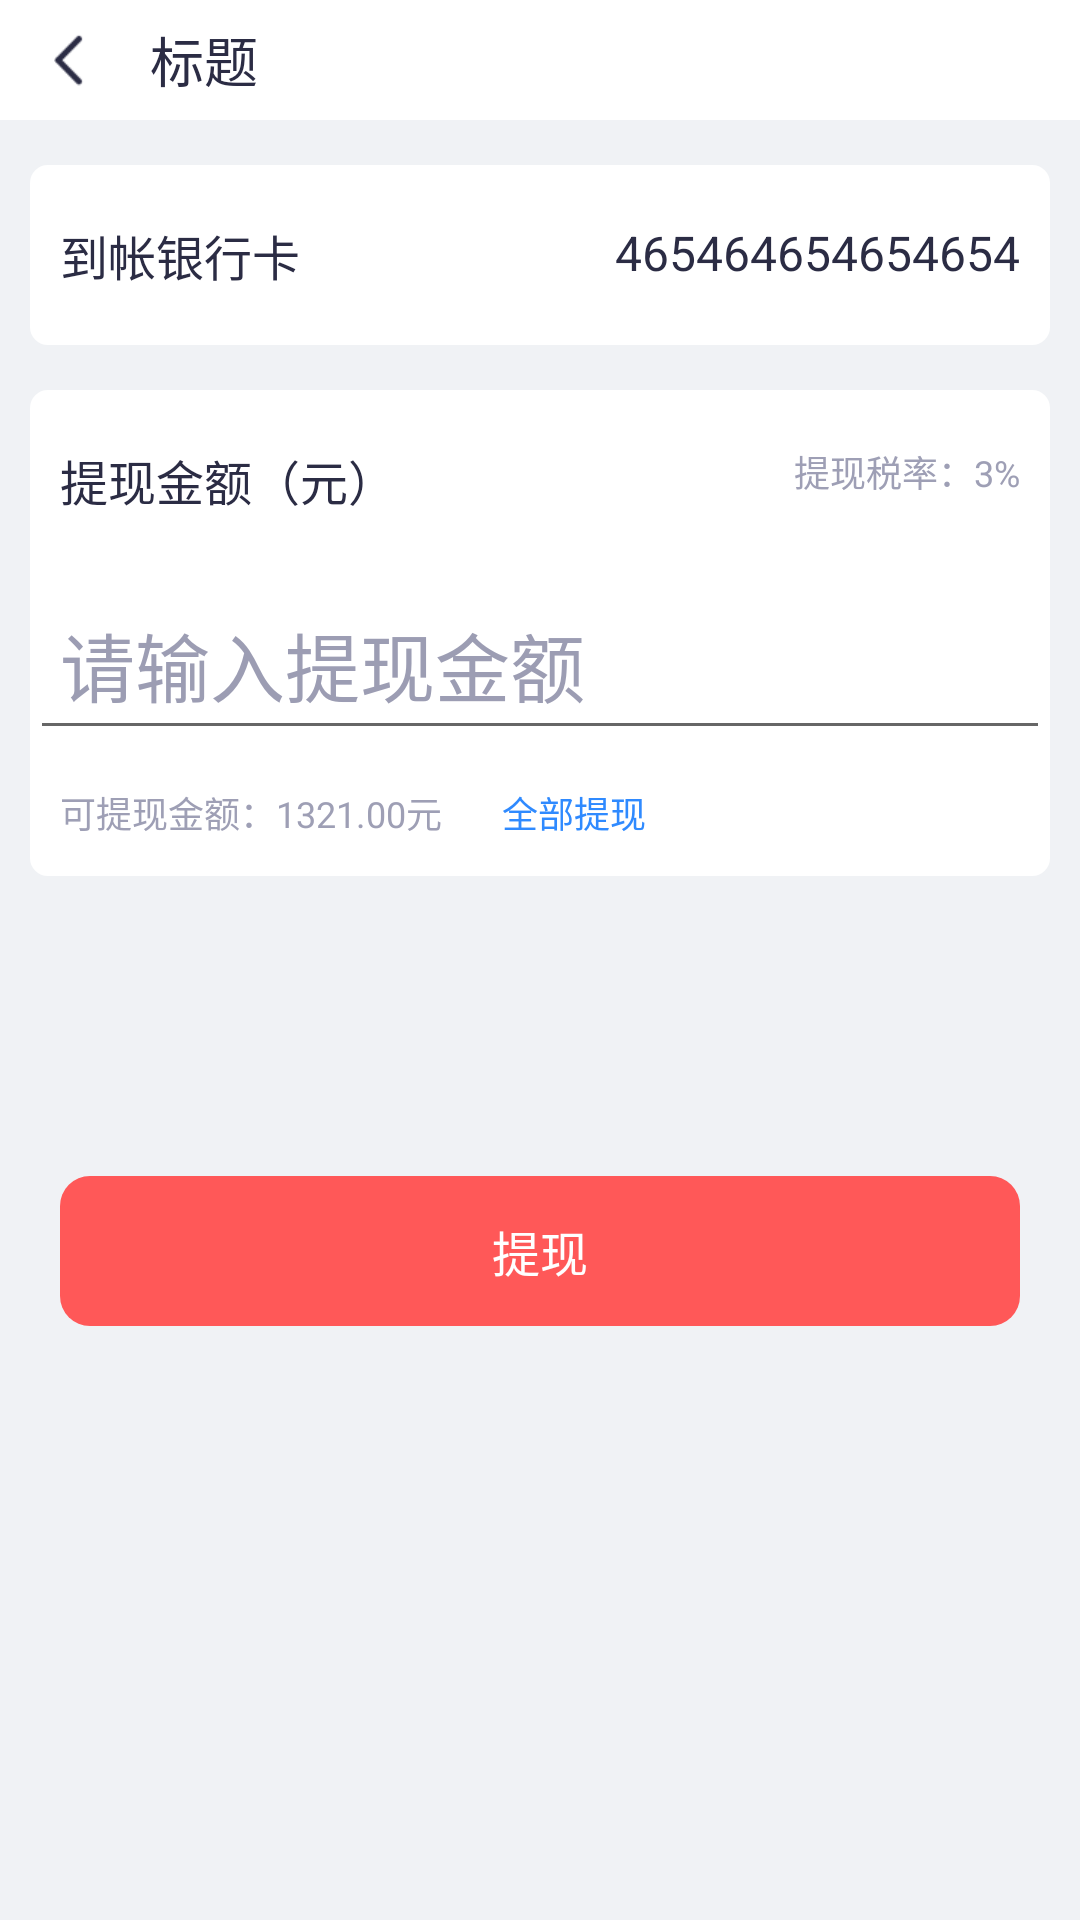

Icon bounding boxes for this 1080px x 1920px phone screenshot, format [x1=x1, y1=y1, x2=x2, y2=y2]:
return: [x1=54, y1=35, x2=83, y2=86]
